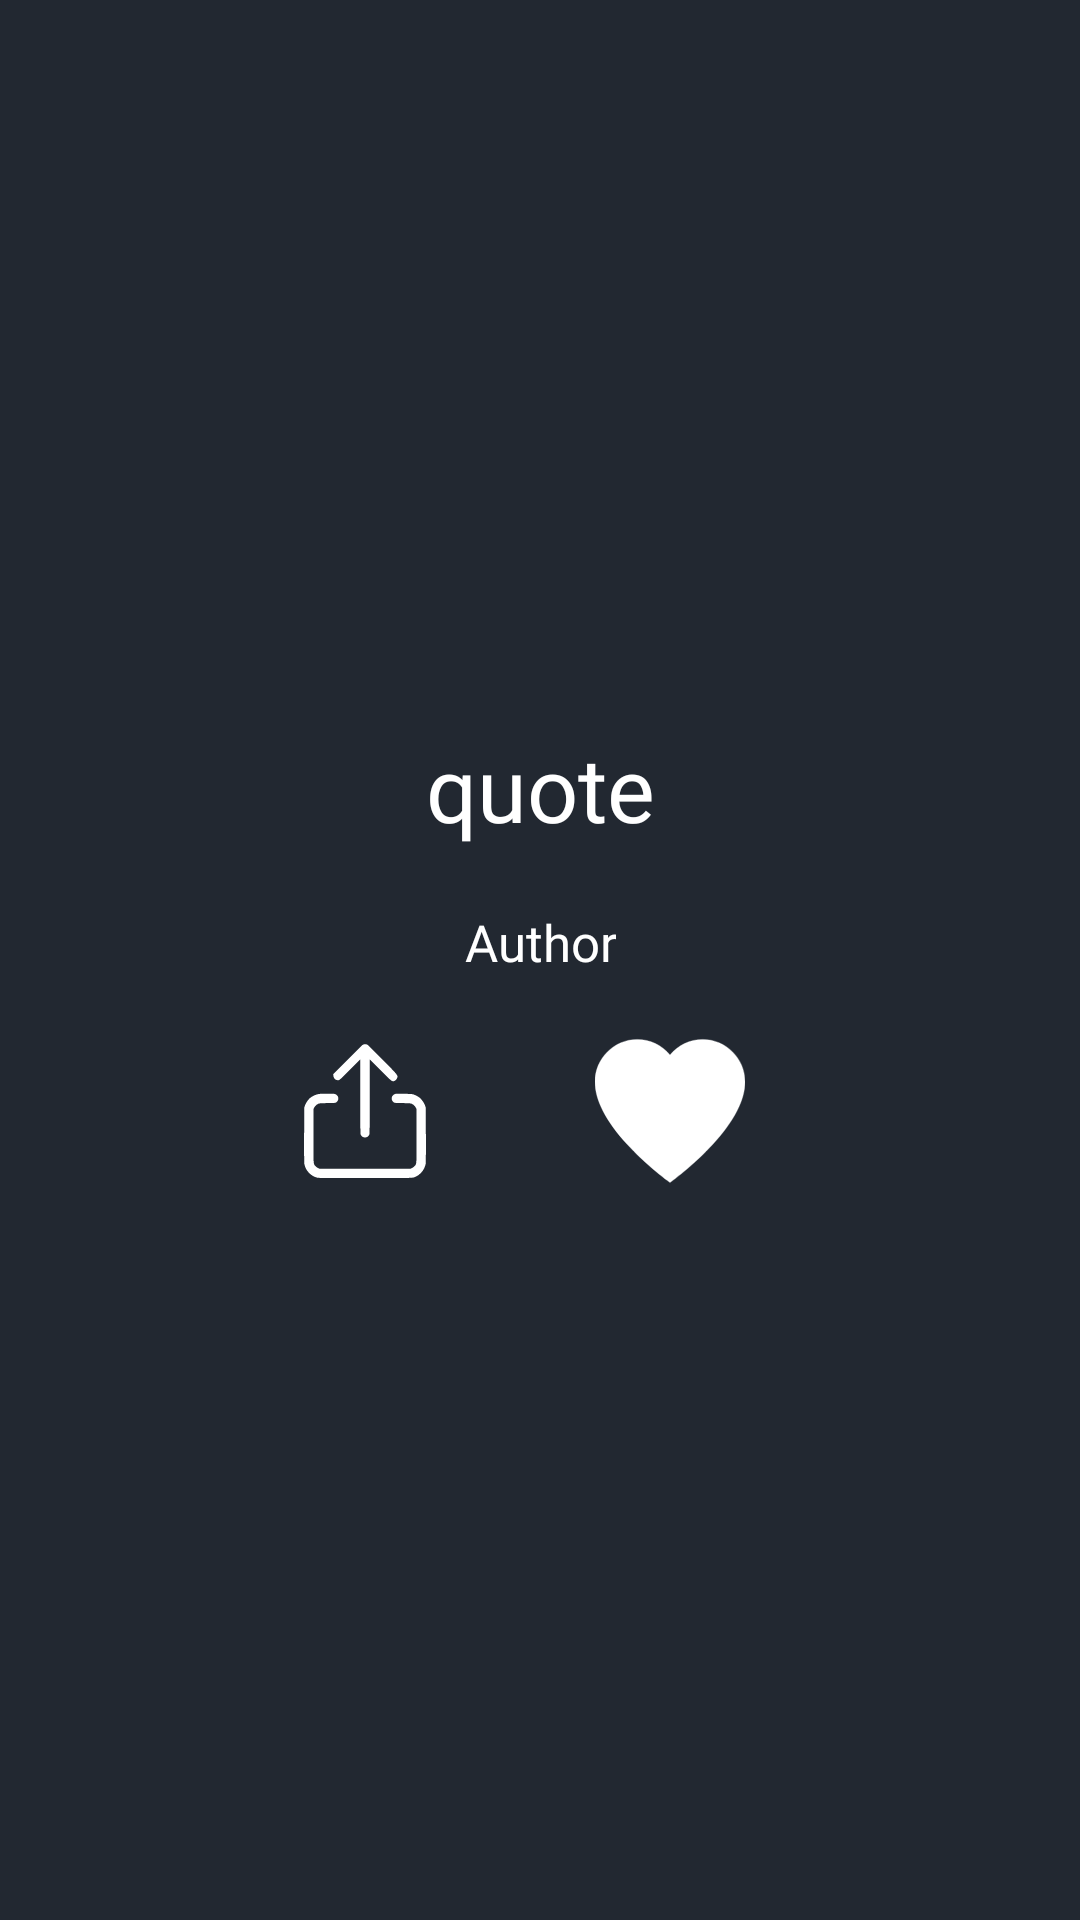

Where icons sit on this 1080w x 1920h app screen, as (x1=x1, y1=y1, x2=x2, y2=y2):
fav checked: (x1=595, y1=1039, x2=745, y2=1183)
share: (x1=304, y1=1044, x2=426, y2=1178)
